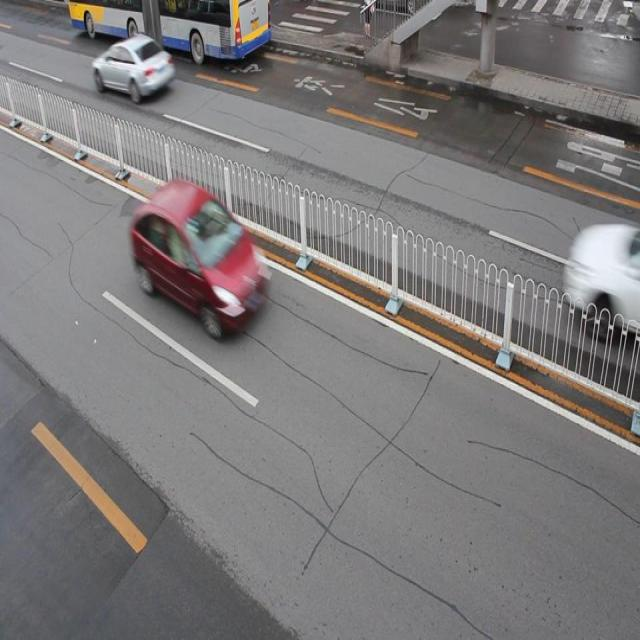car: (132, 181, 266, 332), (566, 214, 640, 337), (93, 32, 176, 102)
van: (71, 1, 272, 70)
